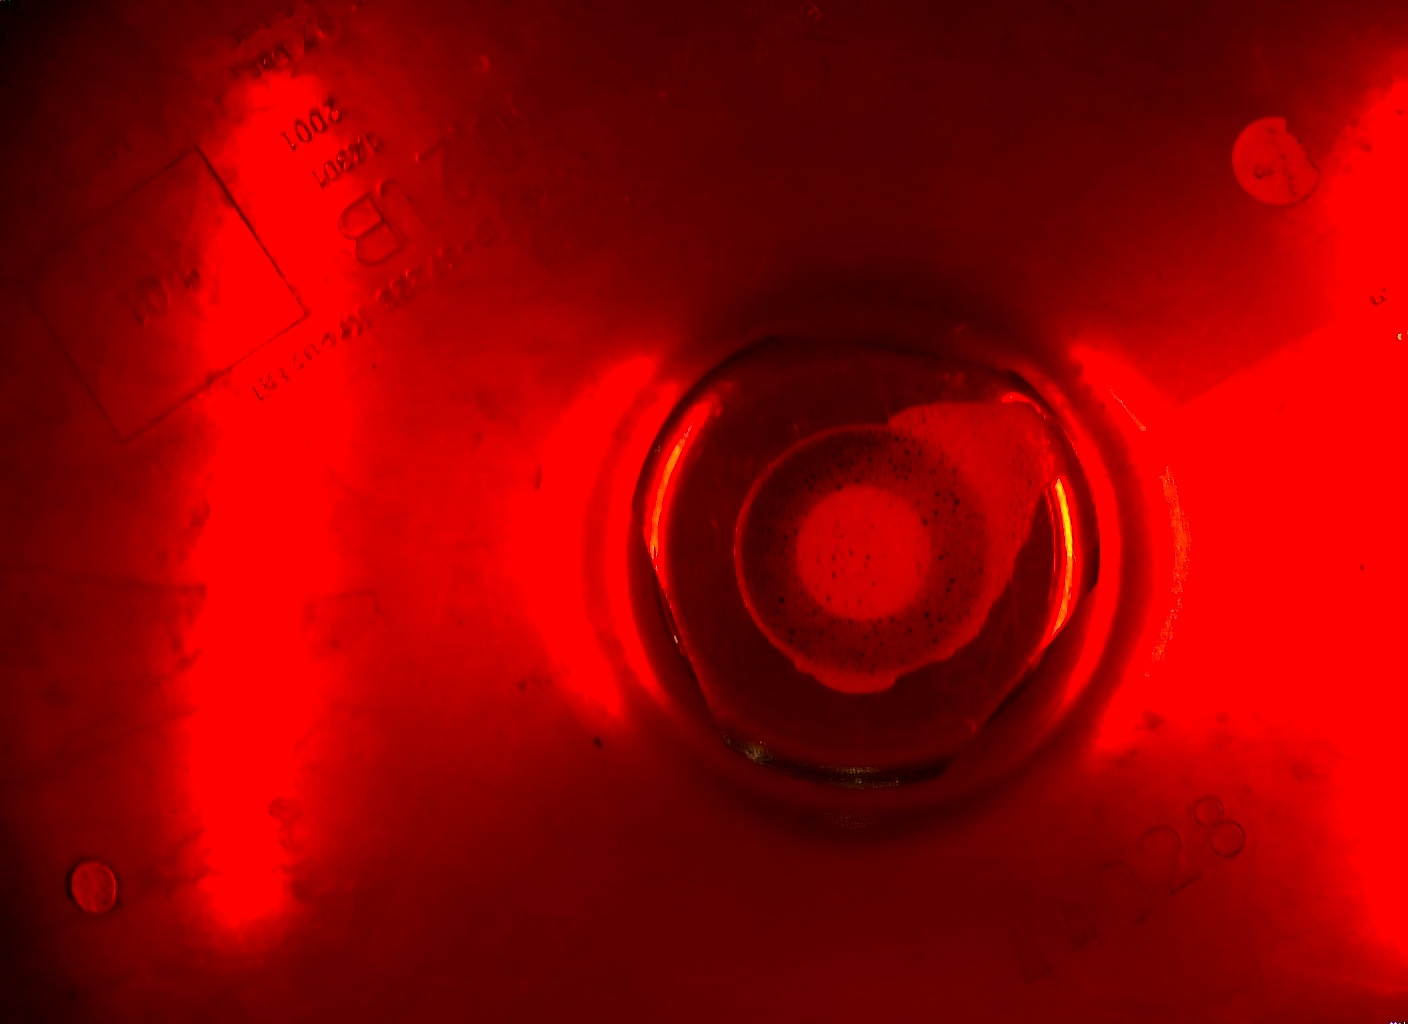pena: (730, 395, 1067, 704)
